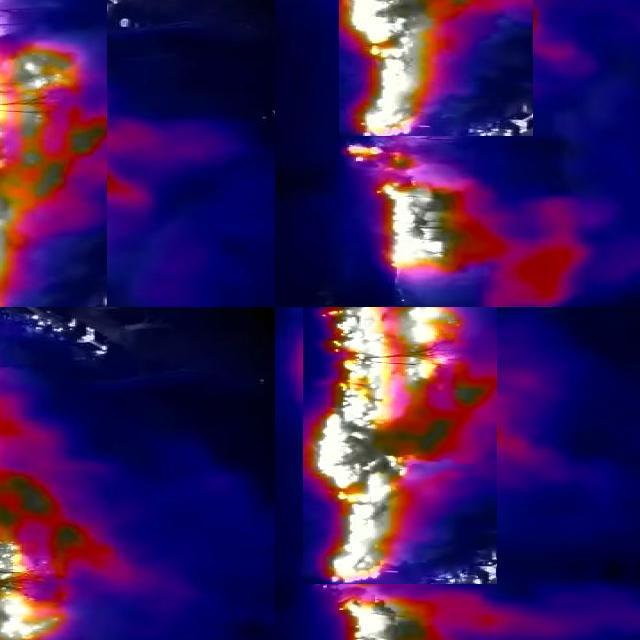fire: (304, 308, 498, 584), (1, 1, 108, 308), (1, 314, 92, 640), (340, 1, 534, 136), (340, 142, 500, 288), (332, 590, 464, 640)
